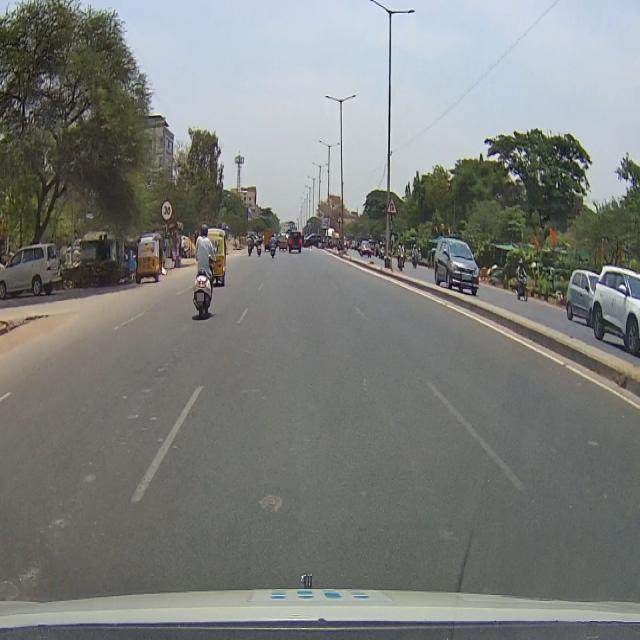auto ahead at: (132, 231, 161, 283)
motorcycle ahead at: (187, 264, 219, 327)
